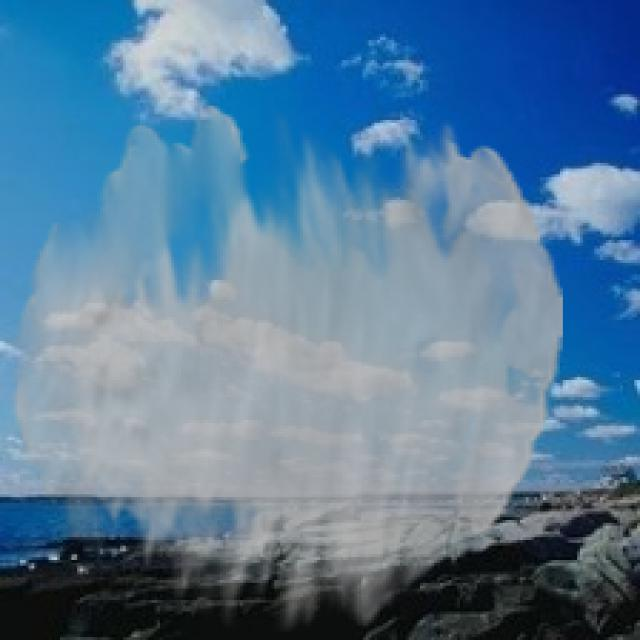smoke: (11, 106, 563, 631)
